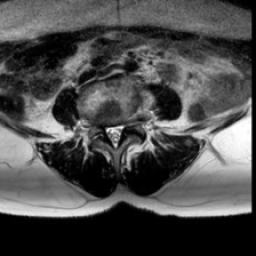CCS_normal: (111, 115, 118, 155)
LFS_stenosis: (124, 110, 132, 136)
LLS_normal: (118, 114, 124, 144)
RFS_severe_stenosis: (96, 112, 104, 138)
RLS_normal: (104, 116, 111, 145)
